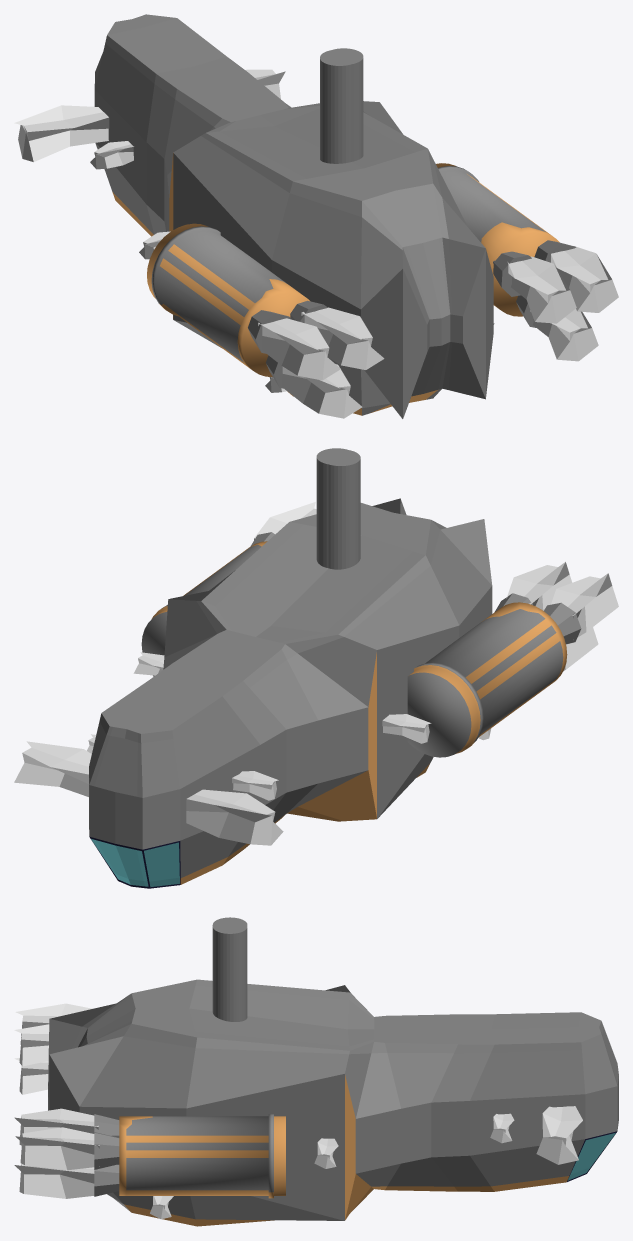
File: QuickShip.fbx
3 renders of one model, top to bottom at view 1: azimuth 30°, elevation 25°; view 2: azimuth 150°, elevation 25°; view 3: azimuth 270°, elevation 25°, orthographic. The views are drawn at different scales.
Parts seen in each view (by area): view 1: ShipBody.001, Back3, Back2, Cannon, Back1, FrontRight, Double Right, FrontLeft; view 2: ShipBody.001, Cannon, FrontRight, Back3, FrontLeft, Double Right, Back2, Back1, Double Left; view 3: ShipBody.001, Back3, Cannon, Back1, Back2, FrontLeft, Double Left.
Boxes of the visible parts, bbox=[...] form: ShipBody.001: bbox=[94, 14, 576, 418]; Back3: bbox=[258, 246, 618, 380]; Back2: bbox=[301, 256, 576, 369]; Cannon: bbox=[320, 48, 363, 163]; Back1: bbox=[282, 309, 598, 418]; FrontRight: bbox=[14, 105, 109, 162]; Double Right: bbox=[90, 141, 286, 392]; FrontLeft: bbox=[245, 69, 285, 98]; ShipBody.001: bbox=[89, 498, 581, 888]; Cannon: bbox=[316, 448, 360, 569]; FrontRight: bbox=[186, 789, 283, 845]; Back3: bbox=[254, 502, 618, 639]; FrontLeft: bbox=[14, 741, 91, 796]; Double Right: bbox=[232, 714, 491, 800]; Back2: bbox=[506, 562, 572, 610]; Back1: bbox=[563, 627, 598, 671]; Double Left: bbox=[87, 652, 164, 753]; ShipBody.001: bbox=[48, 979, 618, 1226]; Back3: bbox=[15, 1003, 99, 1170]; Cannon: bbox=[212, 917, 247, 1021]; Back1: bbox=[14, 1057, 94, 1198]; Back2: bbox=[14, 1024, 98, 1145]; FrontLeft: bbox=[536, 1106, 582, 1164]; Double Left: bbox=[150, 1113, 514, 1219].
Size of the model in its own units: 272 by 243 by 490.
